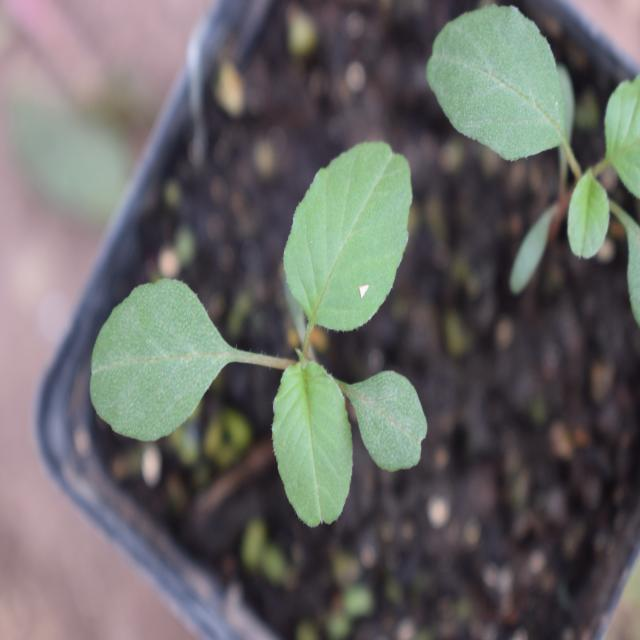pigweed: (84, 131, 441, 511)
